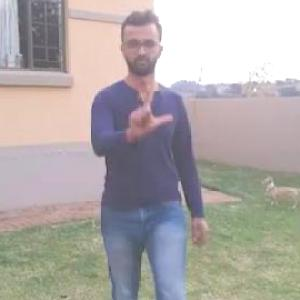land_hand: (121, 75, 175, 139)
